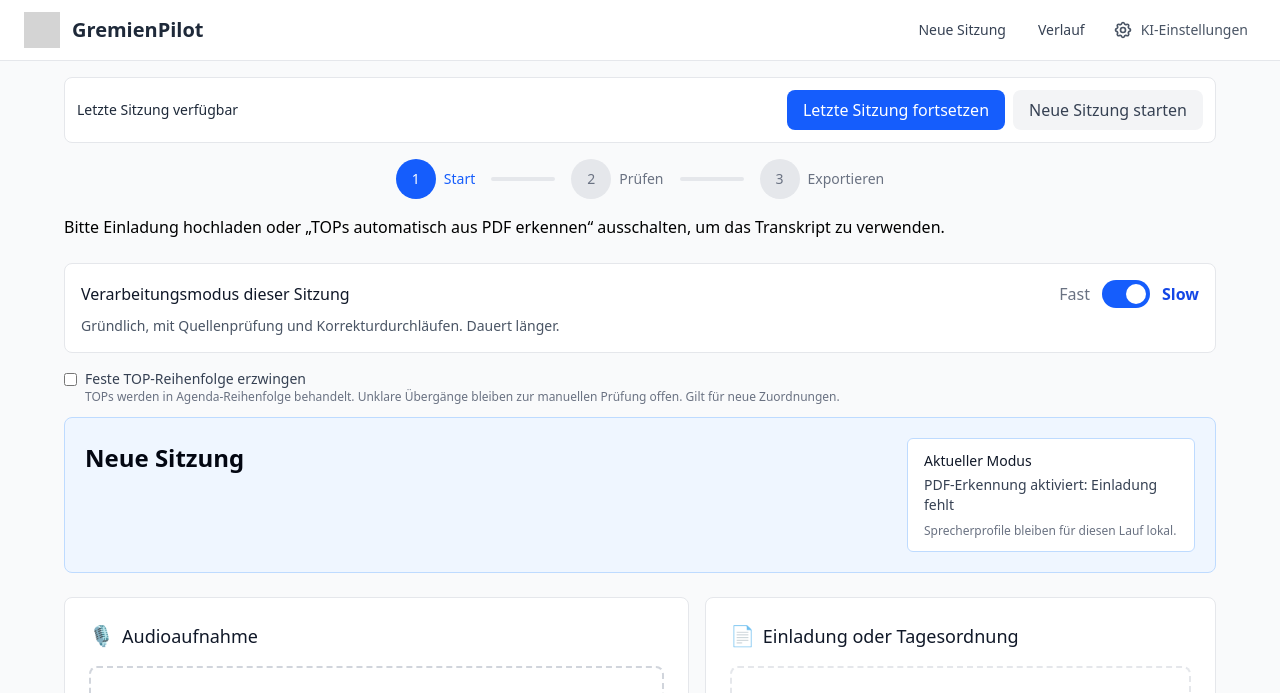
Test: agenda proposals across real editor state transitions › retains uncertain review status when restoring from the start screen
The image size is (1280, 693).
Step 1. Click the button "Letzte Sitzung fortsetzen" → x=896, y=110, box [787,90,1005,130]
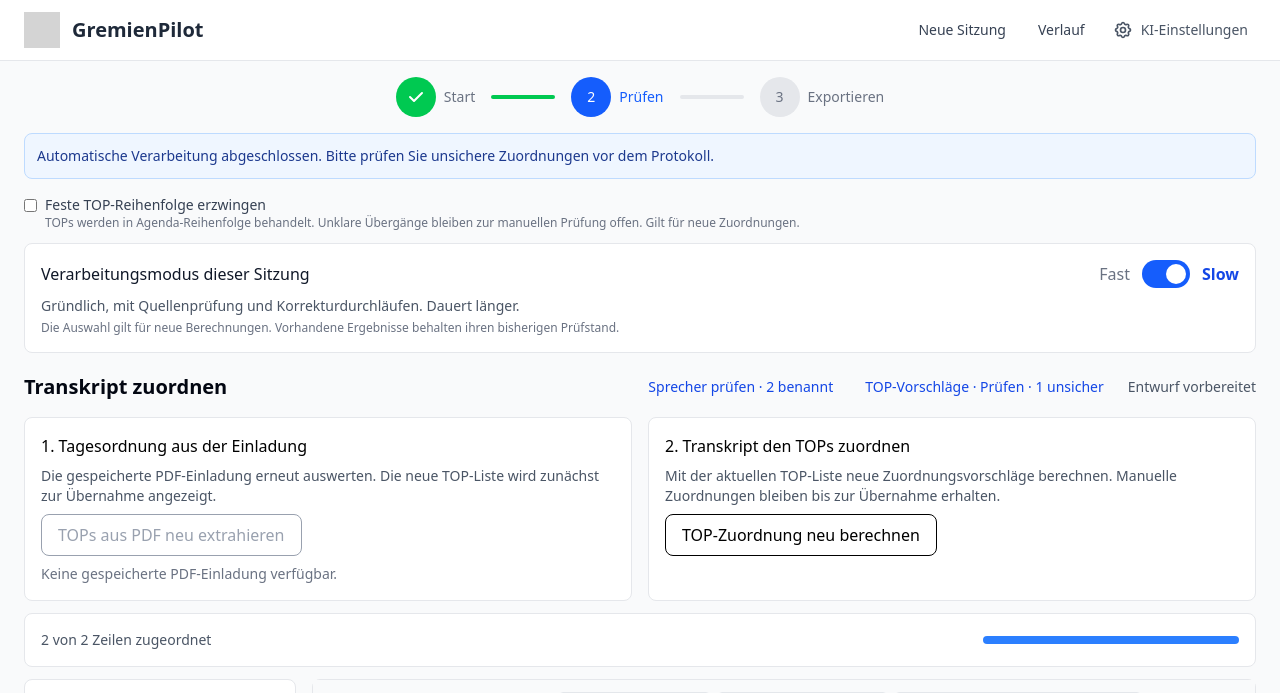
Expected: the text "Bitte prüfen Sie unsichere Zuordnungen vor dem Protokoll" is shown, [37,146,714,165]
